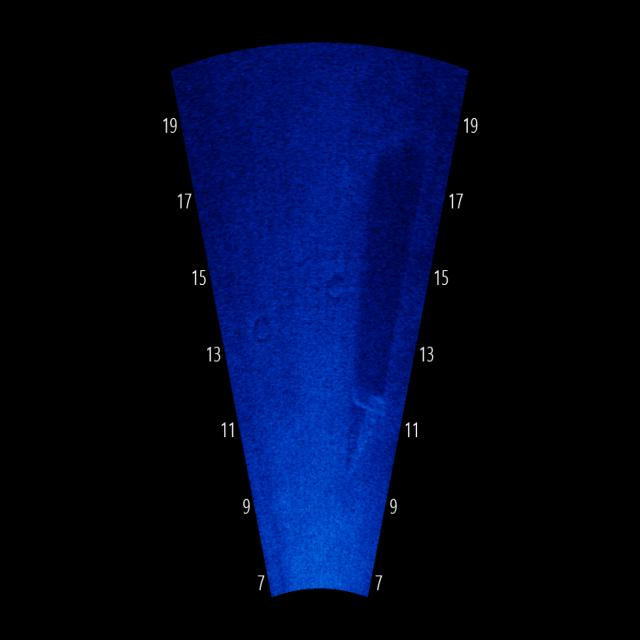circle: (244, 308, 284, 352), (322, 271, 351, 306)
triangle: (337, 377, 390, 490)
